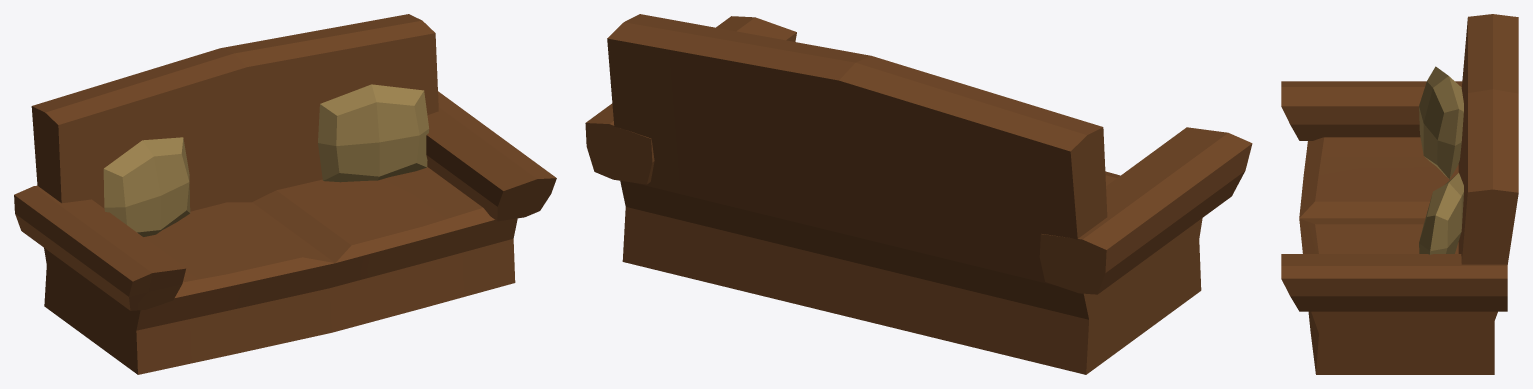
The model's file is Sofa.fbx.
3 renders of one model, left to right at view 1: azimuth 30°, elevation 25°; view 2: azimuth 150°, elevation 25°; view 3: azimuth 270°, elevation 25°, orthographic. The views are drawn at different scales.
Parts seen in each view (by area): view 1: sofa; view 2: sofa; view 3: sofa.
Part boxes in pixels (left/top/right/bottom): sofa: left=14, top=14, right=556, bottom=374; sofa: left=585, top=14, right=1252, bottom=374; sofa: left=1281, top=14, right=1518, bottom=374.
Bounding box in the file's own units: 225 × 105 × 114.
